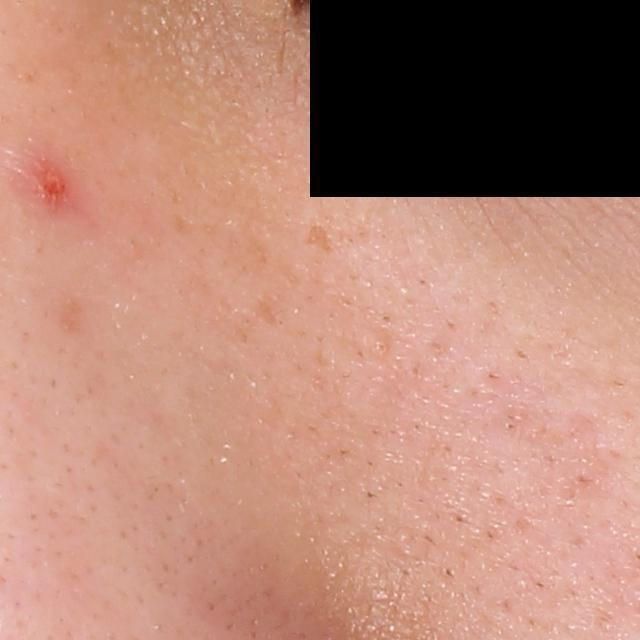melasma: (302, 219, 336, 258)
papule: (30, 159, 80, 213)
